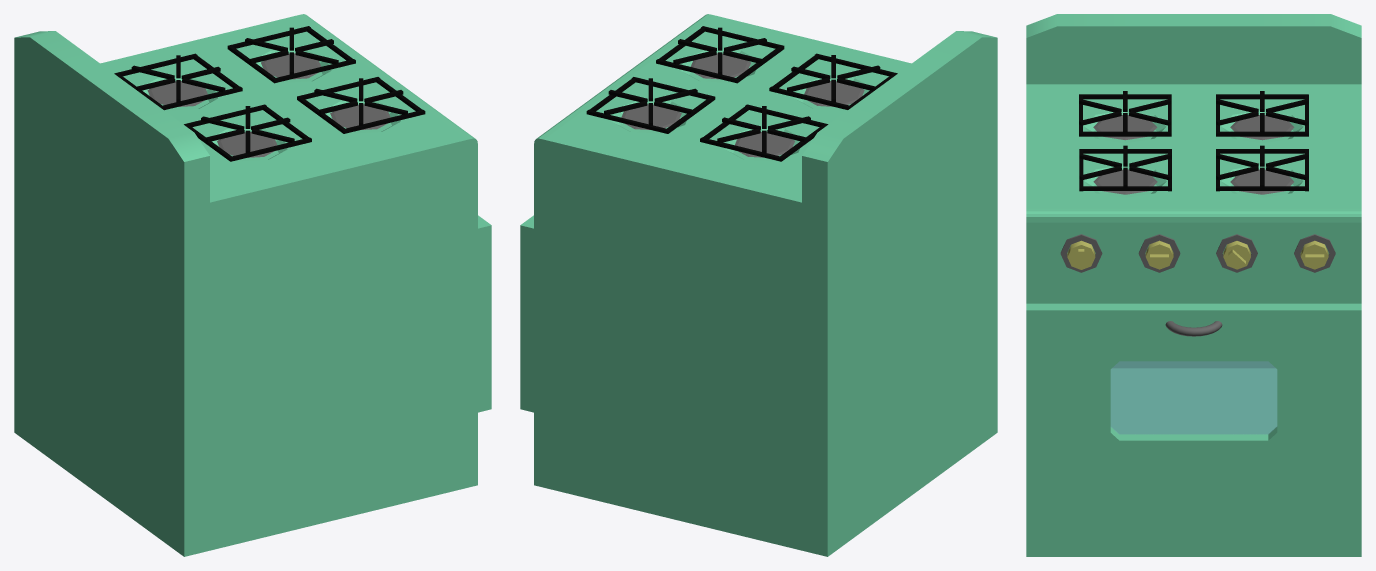
The model's file is stove.FBX.
3 views of the same model, side by side, from view 1: azimuth 30°, elevation 25°; view 2: azimuth 150°, elevation 25°; view 3: azimuth 270°, elevation 25° (orthographic).
Visible parts, largest first — view 1: stove001; view 2: stove001; view 3: stove001.
Boxes of the visible parts, left/top/right/bottom form: stove001: left=14, top=14, right=491, bottom=556; stove001: left=520, top=14, right=997, bottom=556; stove001: left=1026, top=14, right=1361, bottom=556.
Bounding box in the file's own units: 2138 × 2545 × 1929.
